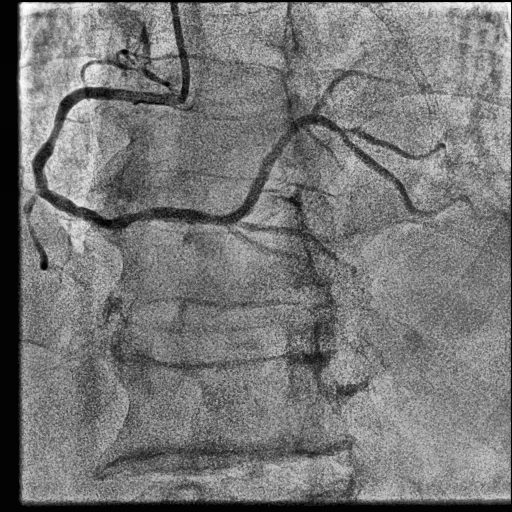pborca: (228, 115, 475, 219)
pda: (235, 220, 335, 258)
rca: (33, 87, 240, 230)
